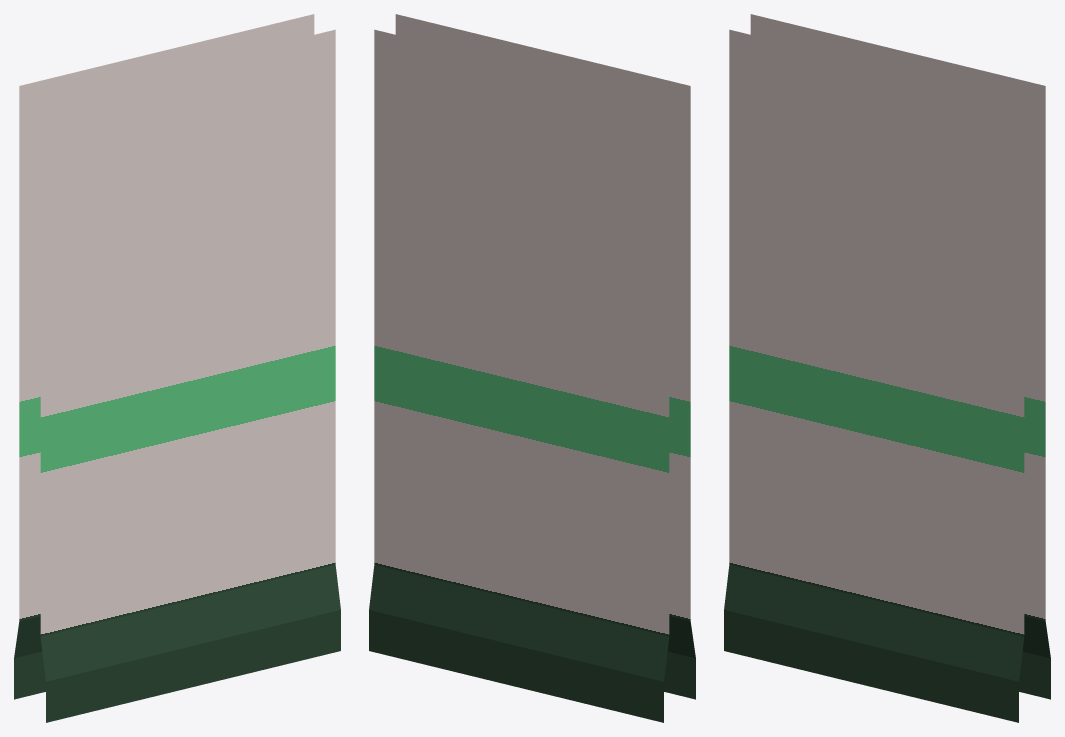
File: SportWall1.gltf
3 views of the same model, side by side, from view 1: azimuth 30°, elevation 25°; view 2: azimuth 150°, elevation 25°; view 3: azimuth 330°, elevation 25° (orthographic).
Parts seen in each view (by area): view 1: cuboid; view 2: cuboid; view 3: cuboid.
Boxes of the visible parts, x1,y1,x2,y2 form: cuboid: (14,14,340,722); cuboid: (369,14,695,722); cuboid: (724,14,1050,722).
Bounding box in the file's own units: 2 × 4 × 0.375.
Materials: 1 (1 with a texture image).
